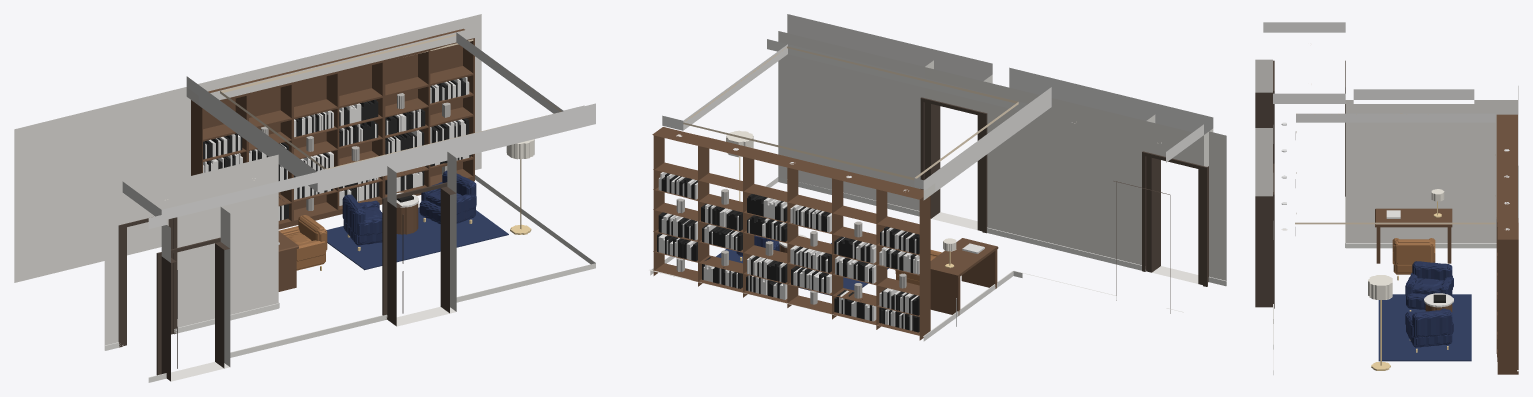
The model's file is ALPHA.glb.
3 views of the same model, side by side, from view 1: azimuth 30°, elevation 25°; view 2: azimuth 150°, elevation 25°; view 3: azimuth 270°, elevation 25° (orthographic). The views are drawn at different scales.
Visible parts, largest first — view 1: WEB_ALPHA; view 2: WEB_ALPHA; view 3: WEB_ALPHA.
Boxes of the visible parts, left/top/right/bottom form: WEB_ALPHA: left=14, top=14, right=595, bottom=382; WEB_ALPHA: left=649, top=14, right=1226, bottom=341; WEB_ALPHA: left=1255, top=22, right=1518, bottom=374.
Size of the model in its own units: 8.94 by 3 by 4.64.
